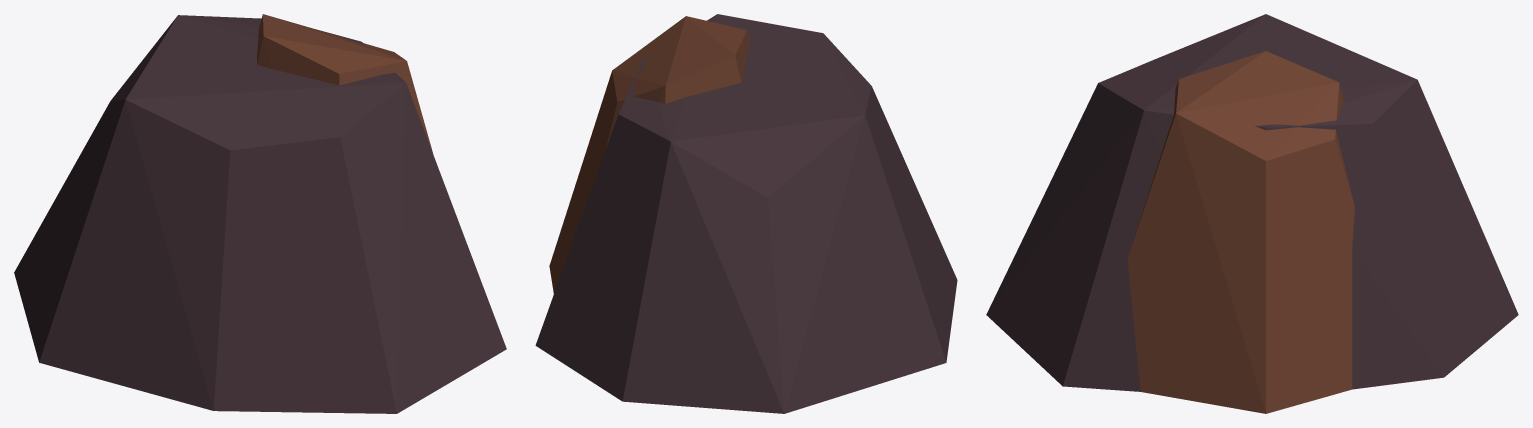
The model's file is RidgeB.fbx.
3 renders of one model, left to right at view 1: azimuth 30°, elevation 25°; view 2: azimuth 150°, elevation 25°; view 3: azimuth 270°, elevation 25°, orthographic. The views are drawn at different scales.
Visible parts, largest first — view 1: SM_RidgeB_MAT_Rock, SM_RidgeB_MAT_RockRust; view 2: SM_RidgeB_MAT_Rock, SM_RidgeB_MAT_RockRust; view 3: SM_RidgeB_MAT_Rock, SM_RidgeB_MAT_RockRust.
Boxes of the visible parts, <box> form: SM_RidgeB_MAT_Rock: <box>14,15,506,413</box>; SM_RidgeB_MAT_RockRust: <box>257,14,432,152</box>; SM_RidgeB_MAT_Rock: <box>535,14,957,413</box>; SM_RidgeB_MAT_RockRust: <box>549,16,749,293</box>; SM_RidgeB_MAT_Rock: <box>986,14,1518,391</box>; SM_RidgeB_MAT_RockRust: <box>1127,51,1354,413</box>.
Bounding box in the file's own units: 14.64 × 9.02 × 16.24.
